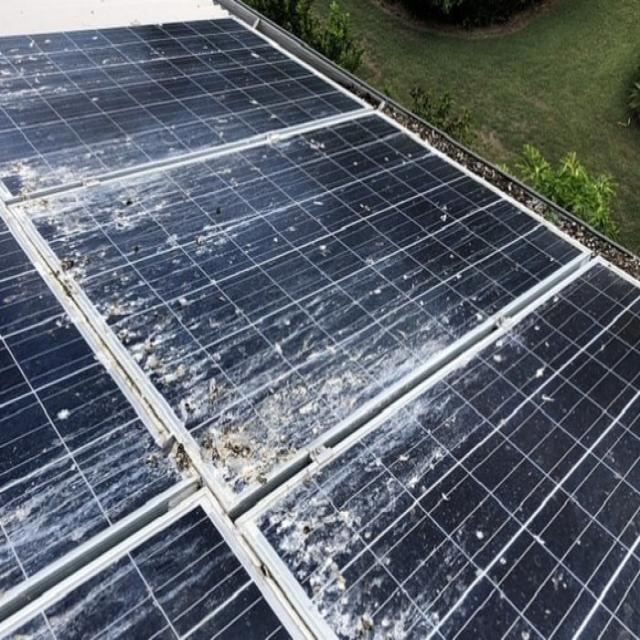dust-solar-panel: (0, 13, 640, 640)
